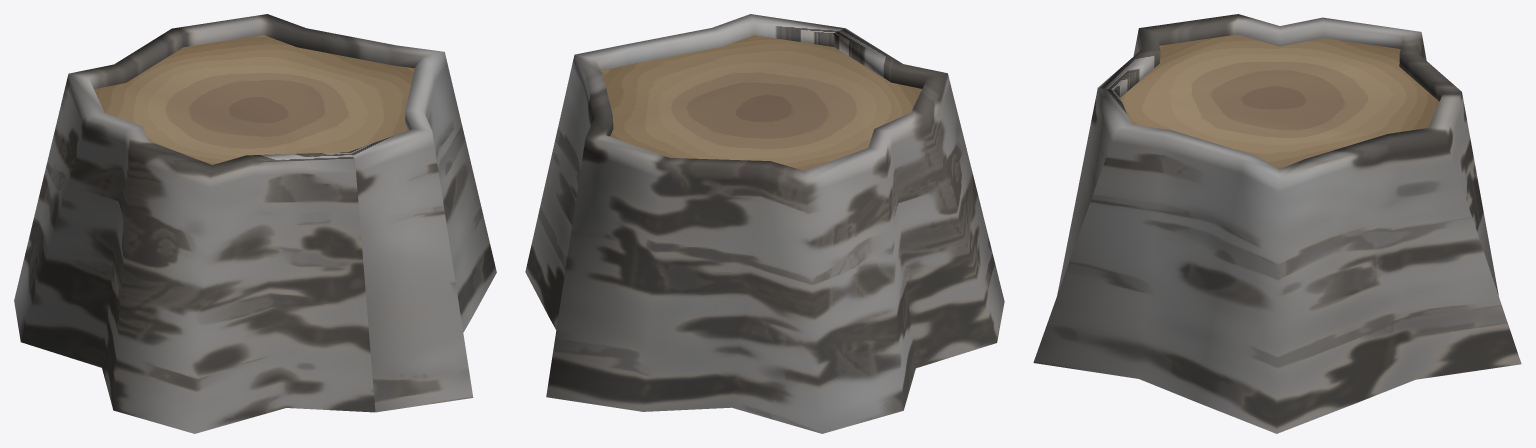
The model's file is tree06_trunk.fbx.
3 renders of one model, left to right at view 1: azimuth 30°, elevation 25°; view 2: azimuth 150°, elevation 25°; view 3: azimuth 270°, elevation 25°, orthographic.
Parts seen in each view (by area): view 1: tree.003; view 2: tree.003; view 3: tree.003.
Part boxes in pixels (x1,y1,x2,y2): tree.003: [14, 14, 496, 433]; tree.003: [525, 14, 1004, 433]; tree.003: [1033, 14, 1521, 433].
Bounding box in the file's own units: 81.55 × 42.88 × 81.08.
